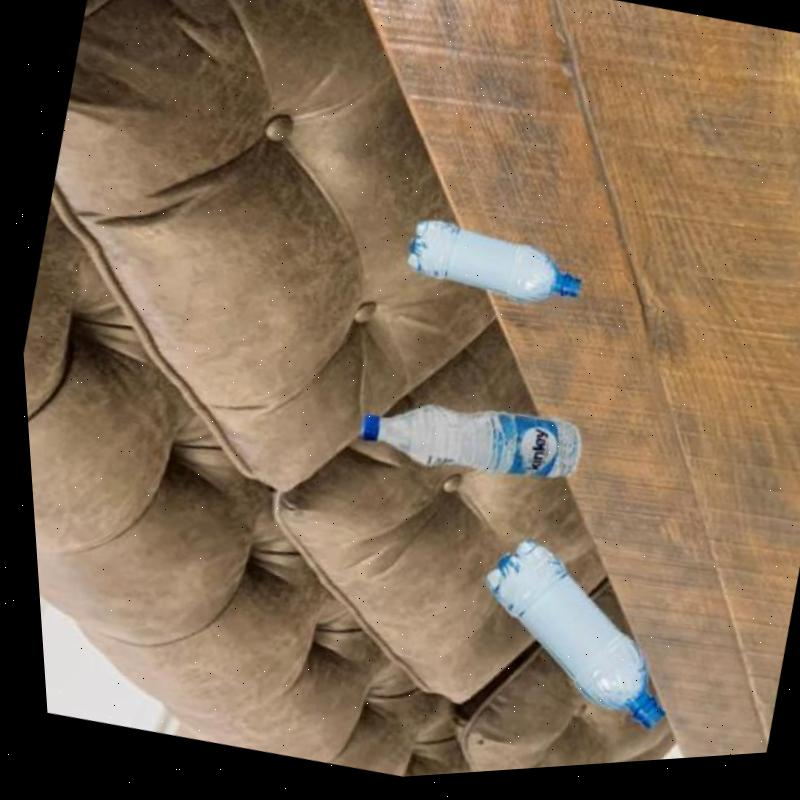botella: (444, 531, 690, 751), (345, 380, 581, 512), (395, 213, 586, 327)
